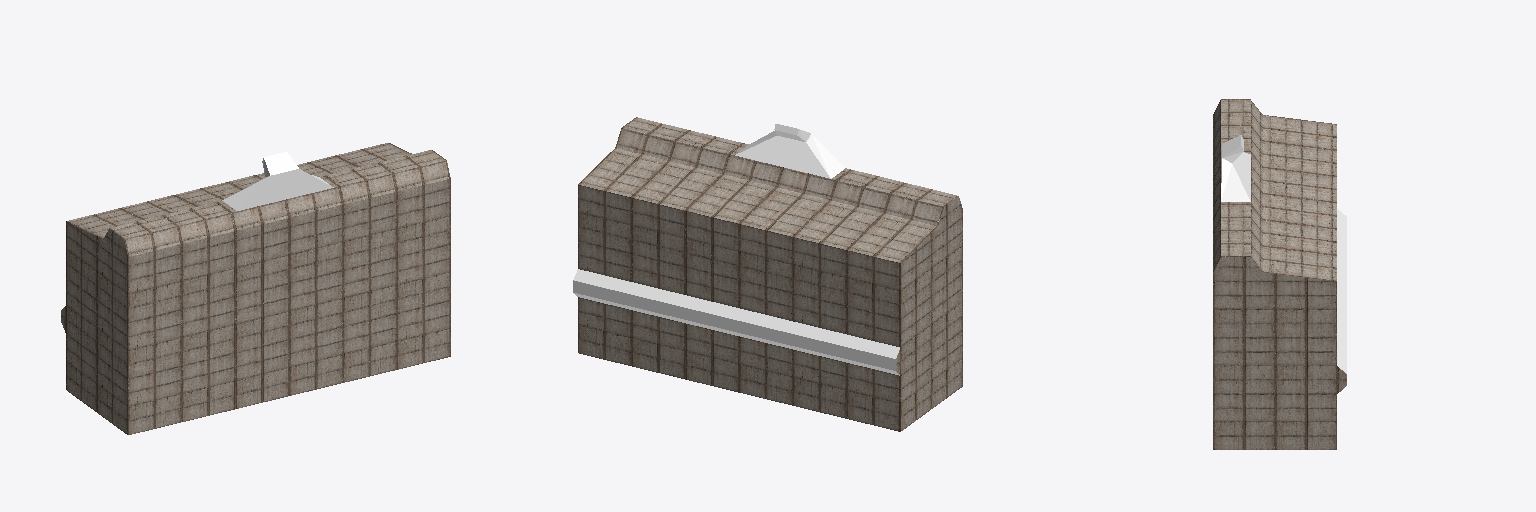
3 renders of one model, left to right at view 1: azimuth 30°, elevation 25°; view 2: azimuth 150°, elevation 25°; view 3: azimuth 270°, elevation 25°, orthographic.
Visible parts, largest first — view 1: TexturesCom_ConcreteFence0027_1_seamless_S, TexturesCom_ConcreteBare0398_7_seamless_S; view 2: TexturesCom_ConcreteFence0027_1_seamless_S, TexturesCom_BrickMessy0175_2_M, TexturesCom_ConcreteBare0398_7_seamless_S; view 3: TexturesCom_ConcreteFence0027_1_seamless_S, TexturesCom_ConcreteBare0398_7_seamless_S, TexturesCom_BrickMessy0175_2_M.
Boxes of the visible parts, x1=… form: TexturesCom_ConcreteFence0027_1_seamless_S: x1=61, y1=143, x2=450, y2=434; TexturesCom_ConcreteBare0398_7_seamless_S: x1=222, y1=152, x2=333, y2=210; TexturesCom_ConcreteFence0027_1_seamless_S: x1=578, y1=117, x2=962, y2=431; TexturesCom_BrickMessy0175_2_M: x1=573, y1=269, x2=899, y2=375; TexturesCom_ConcreteBare0398_7_seamless_S: x1=735, y1=124, x2=844, y2=178; TexturesCom_ConcreteFence0027_1_seamless_S: x1=1213, y1=99, x2=1346, y2=449; TexturesCom_ConcreteBare0398_7_seamless_S: x1=1221, y1=135, x2=1250, y2=201; TexturesCom_BrickMessy0175_2_M: x1=1337, y1=209, x2=1346, y2=373.
Size of the model in its own units: 6 by 4.11 by 2.15.
3 materials, 1 textured.